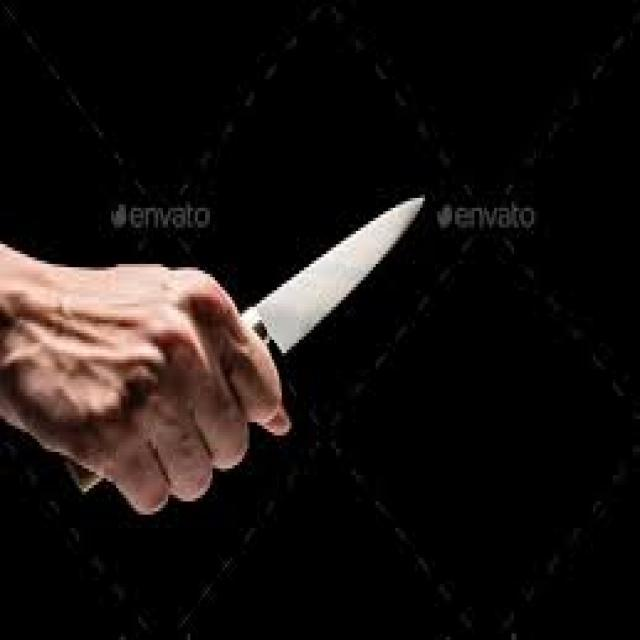faca: (40, 192, 432, 522)
